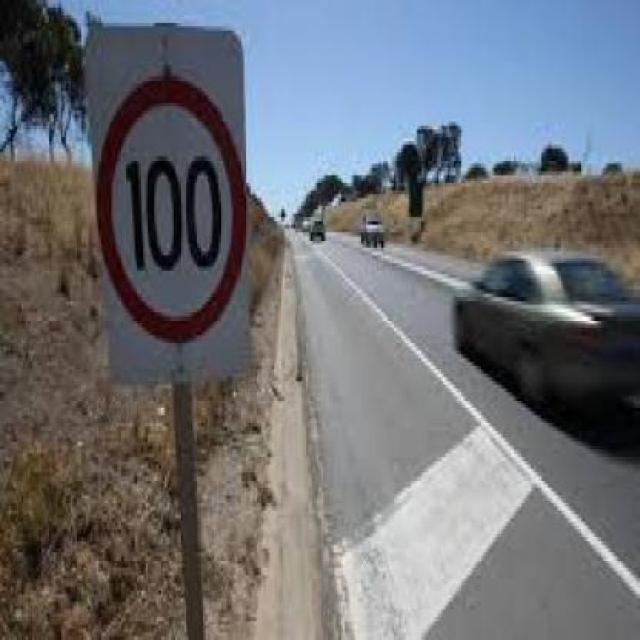forb_speed_over_100: (96, 75, 241, 341)
